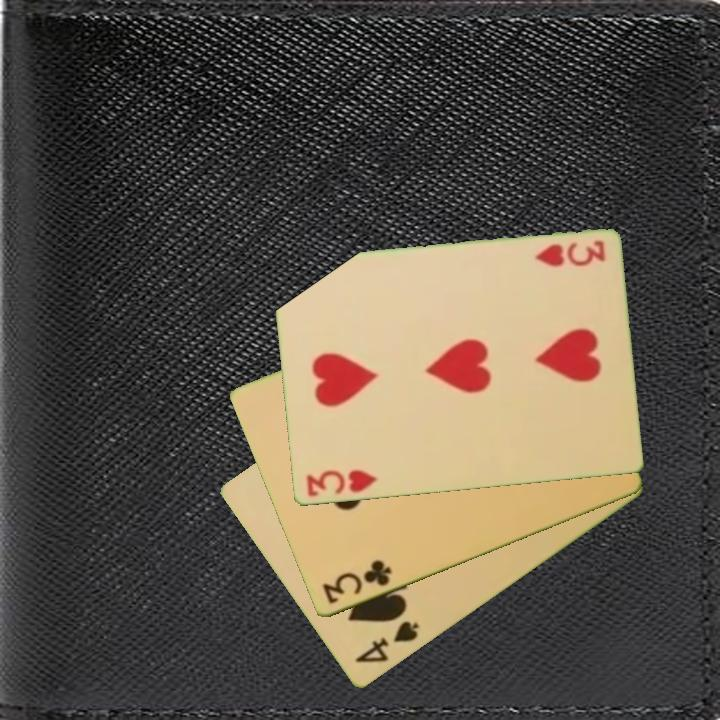3c: (318, 557, 395, 608)
3h: (302, 466, 380, 500), (531, 237, 608, 271)
4s: (351, 617, 422, 667)
